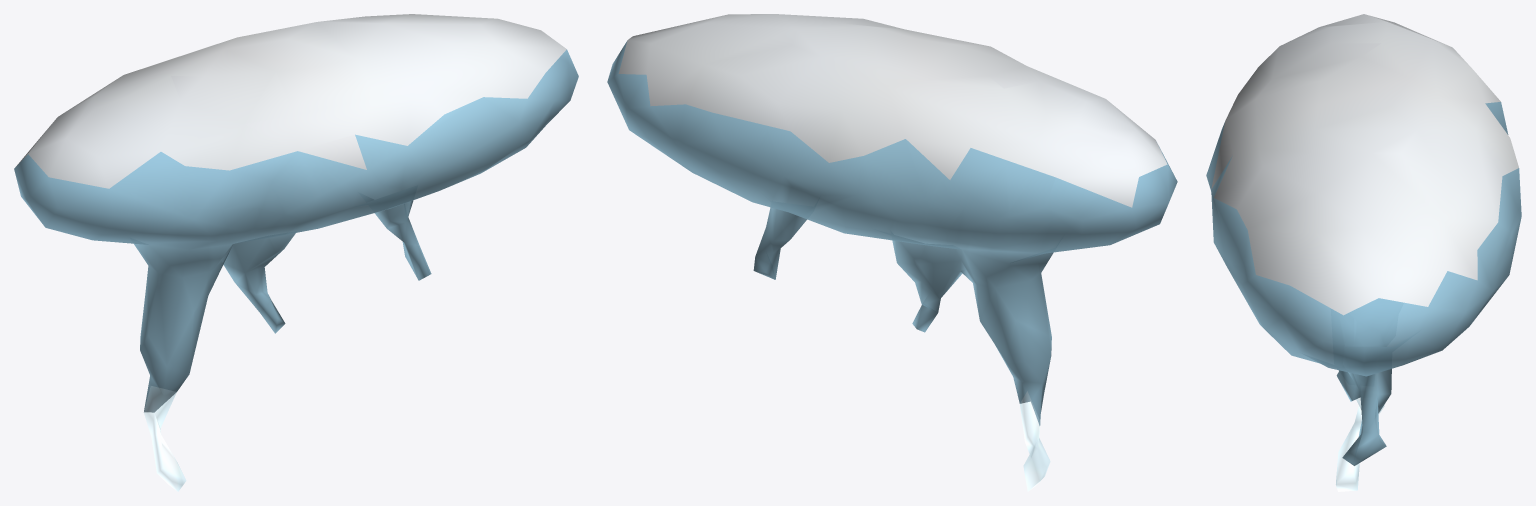
The model's file is frost_icicle_cluster_c_lod2.glb.
3 views of the same model, side by side, from view 1: azimuth 30°, elevation 25°; view 2: azimuth 150°, elevation 25°; view 3: azimuth 270°, elevation 25° (orthographic). The views are drawn at different scales.
Parts seen in each view (by area): view 1: frost_icicle_cluster_c.001; view 2: frost_icicle_cluster_c.001; view 3: frost_icicle_cluster_c.001.
Boxes of the visible parts, bbox=[...] form: frost_icicle_cluster_c.001: bbox=[14, 14, 578, 491]; frost_icicle_cluster_c.001: bbox=[607, 14, 1177, 491]; frost_icicle_cluster_c.001: bbox=[1206, 14, 1521, 491].
Size of the model in its own units: 7.01 by 4.99 by 3.09.
